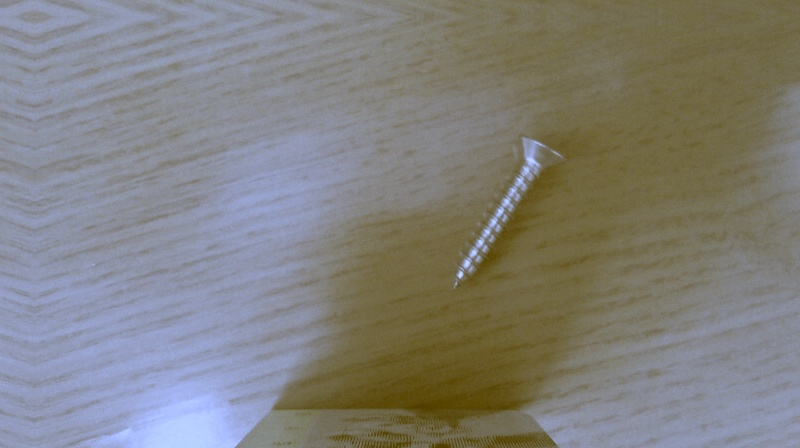S001: (445, 130, 569, 296)
